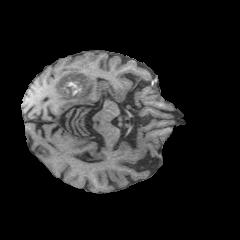glioma: (55, 69, 102, 99)
